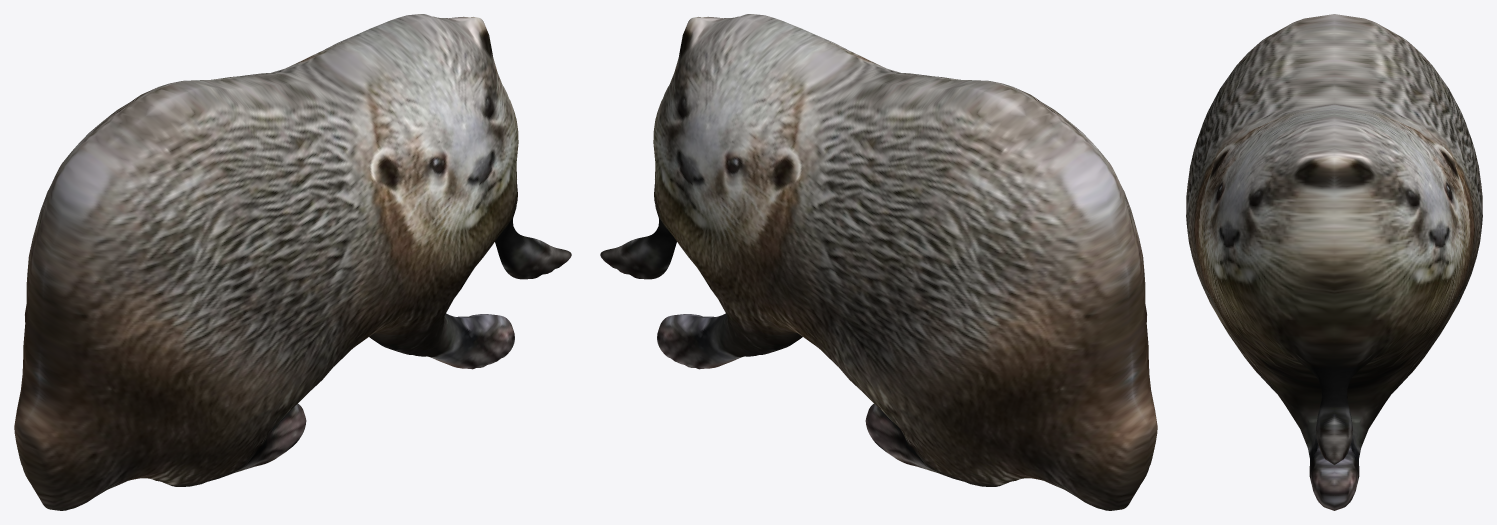
The model's file is asset.glb.
The picture shows the model from 3 angles, left to right: view 1: azimuth 30°, elevation 25°; view 2: azimuth 150°, elevation 25°; view 3: azimuth 270°, elevation 25°; orthographic projection.
Size of the model in its own units: 3.76 by 2.63 by 1.77.
Materials: 1 (1 with a texture image).
